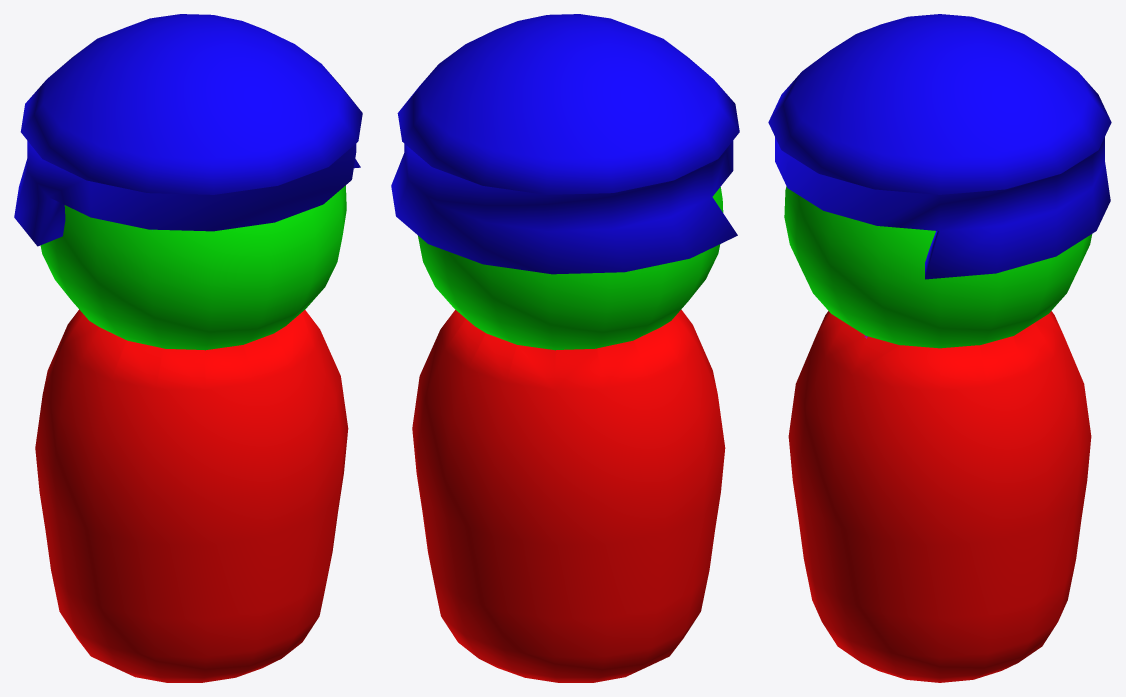
The model's file is ennemi.fbx.
3 renders of one model, left to right at view 1: azimuth 30°, elevation 25°; view 2: azimuth 150°, elevation 25°; view 3: azimuth 270°, elevation 25°, orthographic.
Parts seen in each view (by area): view 1: Sphere.001; view 2: Sphere.001; view 3: Sphere.001.
Part boxes in pixels (x1,y1,x2,y2): Sphere.001: (14,14,362,682); Sphere.001: (391,14,739,682); Sphere.001: (768,14,1111,682).
Bounding box in the file's own units: 253 × 469 × 234.
